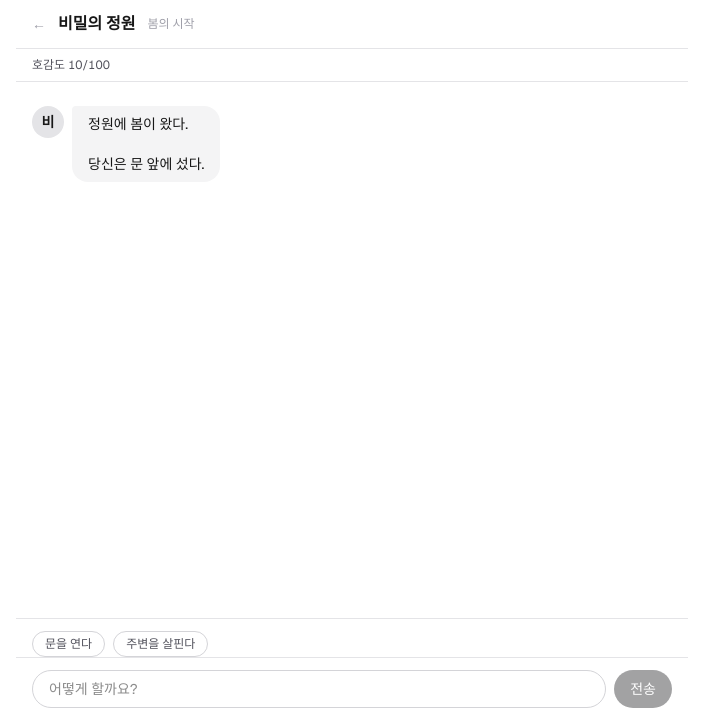
Scenario: StoryPlayScreen (#48) › ended=true면 엔딩 화면(resultText)을 노출하고 입력창을 숨긴다
Expected: the text "정원에 봄이 왔다. 당신은 문 앞에 섰다." is shown, 72,106 -> 220,182
Type "고백한다" into the field named "메시지 입력".
click(319, 689); type("고백한다")  # box 32,670 -> 606,708
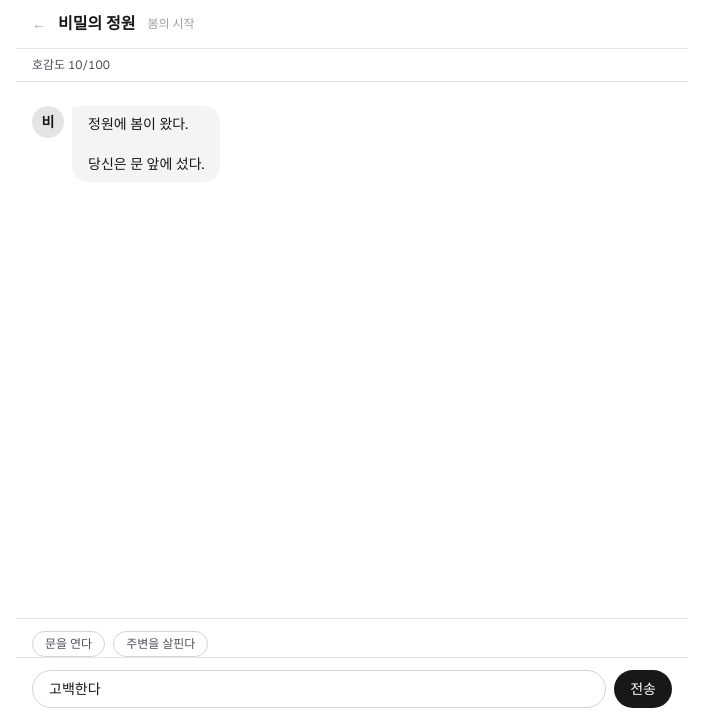
Click the button "전송".
click(643, 689)  # box 614,670 -> 672,708
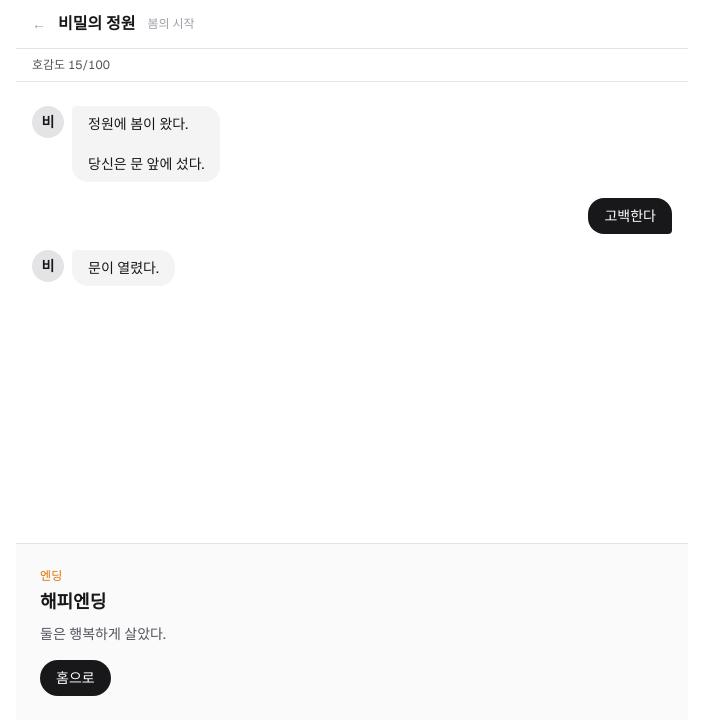
Expected: the message labelled "엔딩" is shown, 16,543 -> 688,719
Expected: the heading "해피엔딩" is shown, 40,590 -> 106,613
Expected: the text "둘은 행복하게 살았다." is shown, 40,625 -> 166,643
